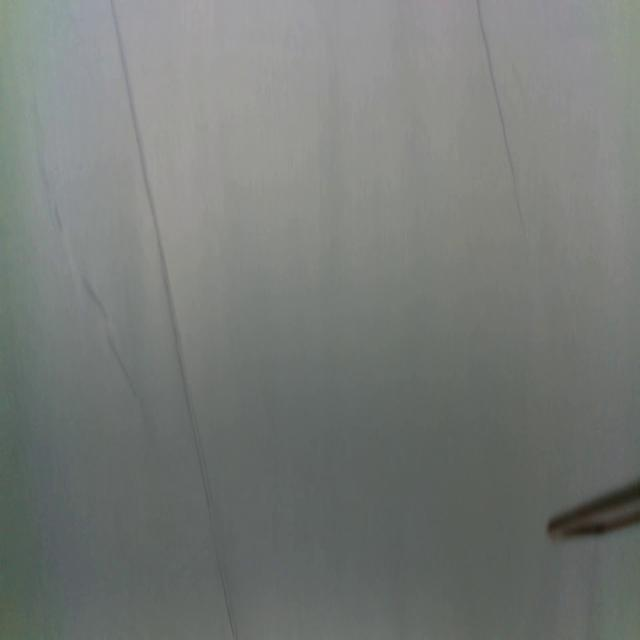crease: (110, 0, 236, 640), (476, 0, 526, 238)
